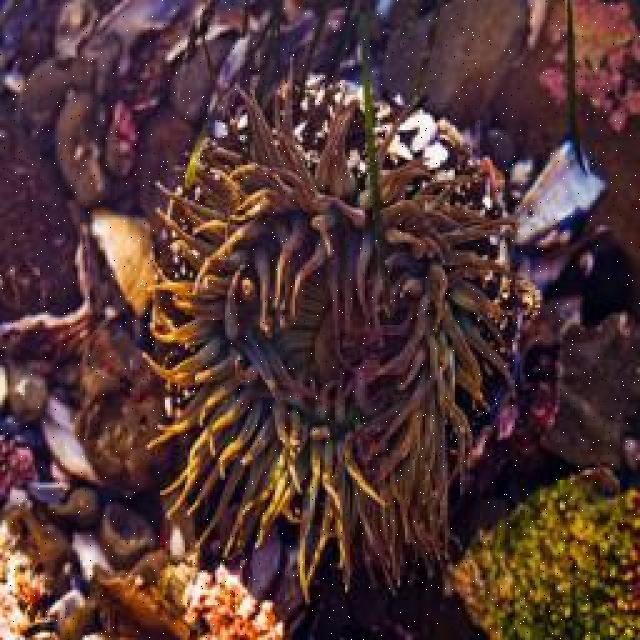reefs: (88, 58, 610, 607)
